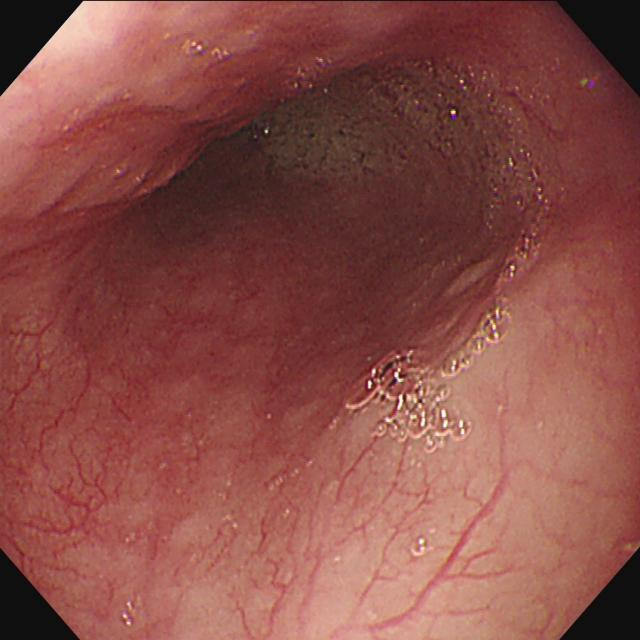T: (256, 61, 549, 210), (349, 309, 515, 454)
